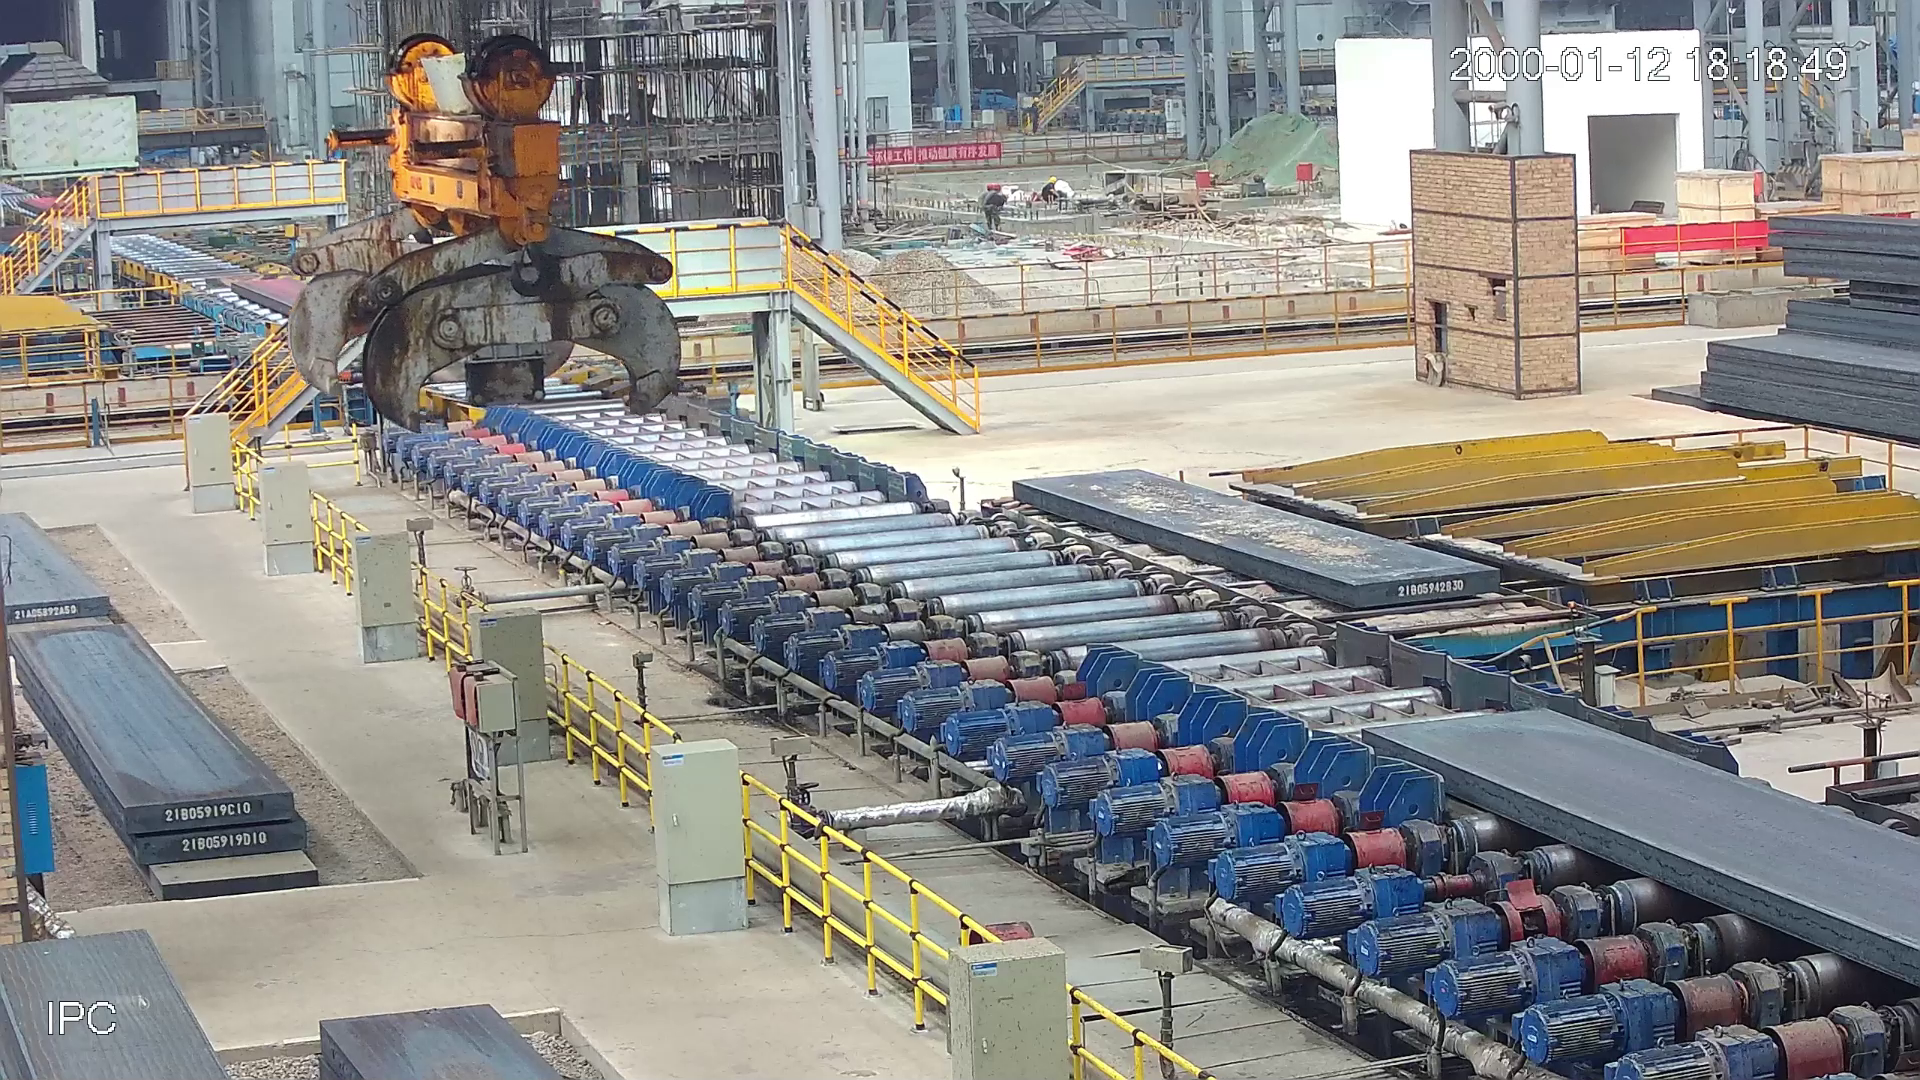crane: (286, 25, 688, 444)
slab: (1358, 707, 1920, 982), (1010, 464, 1505, 616), (231, 276, 351, 322)
